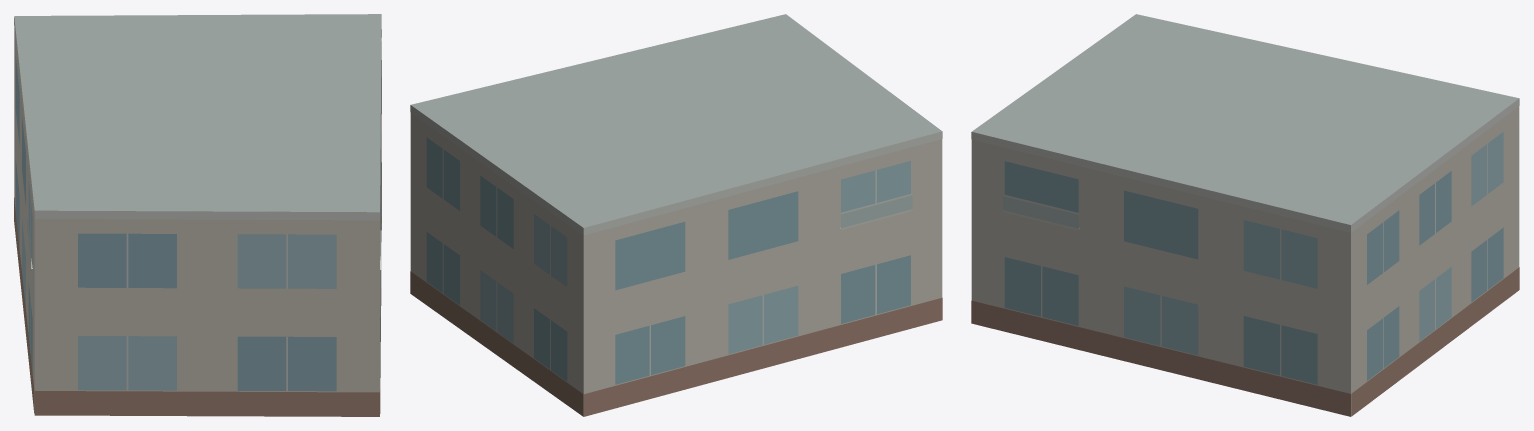
The model's file is survey-upis-33005824.glb.
3 views of the same model, side by side, from view 1: azimuth 30°, elevation 25°; view 2: azimuth 150°, elevation 25°; view 3: azimuth 270°, elevation 25° (orthographic). The views are drawn at different scales.
Parts seen in each view (by area): view 1: survey-upis-33005824.tmp; view 2: survey-upis-33005824.tmp; view 3: survey-upis-33005824.tmp.
Boxes of the visible parts, bbox=[...] form: survey-upis-33005824.tmp: bbox=[14, 14, 381, 416]; survey-upis-33005824.tmp: bbox=[410, 14, 942, 416]; survey-upis-33005824.tmp: bbox=[971, 14, 1519, 416].
Size of the model in its own units: 14.41 by 6.1 by 15.81.
